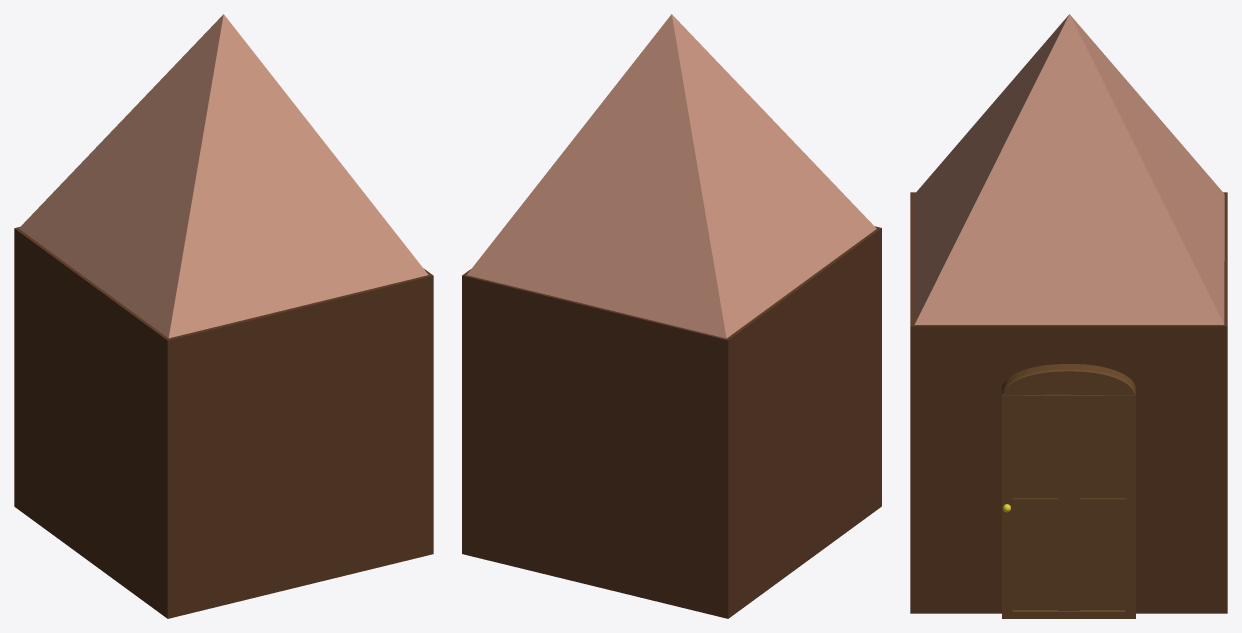
The model's file is WoodHouse.fbx.
The picture shows the model from 3 angles, left to right: view 1: azimuth 30°, elevation 25°; view 2: azimuth 150°, elevation 25°; view 3: azimuth 270°, elevation 25°; orthographic projection. The views are drawn at different scales.
Visible parts, largest first — view 1: Cube, Cone; view 2: Cube, Cone; view 3: Cone, Cube, Door.
Part boxes in pixels (x1=…): Cube: x1=14, y1=227, x2=433, y2=618; Cone: x1=19, y1=14, x2=428, y2=338; Cube: x1=462, y1=226, x2=881, y2=618; Cone: x1=467, y1=14, x2=876, y2=338; Cone: x1=914, y1=14, x2=1224, y2=324; Cube: x1=910, y1=192, x2=1227, y2=613; Door: x1=1002, y1=364, x2=1135, y2=618.
Size of the model in its own units: 505 by 877 by 473.
